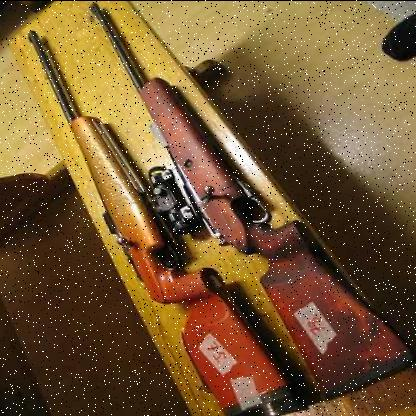rifle: (84, 2, 396, 365), (18, 18, 296, 409)
